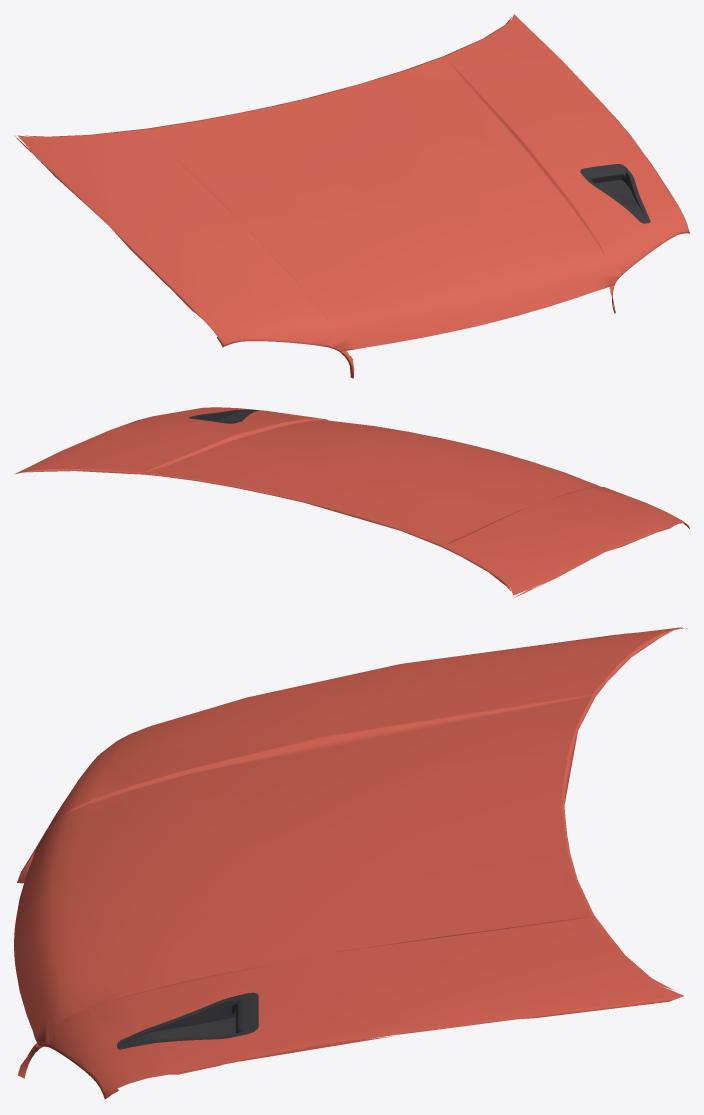
Rendered from wendtStrom_hood_trackBase.glb.
The picture shows the model from 3 angles, top to bottom: view 1: azimuth 30°, elevation 25°; view 2: azimuth 150°, elevation 25°; view 3: azimuth 270°, elevation 25°; orthographic projection. The views are drawn at different scales.
Visible parts, largest first — view 1: hood_trackBase; view 2: hood_trackBase; view 3: hood_trackBase.
Part boxes in pixels (bbox=[...]): hood_trackBase: bbox=[14, 14, 689, 378]; hood_trackBase: bbox=[14, 407, 689, 597]; hood_trackBase: bbox=[14, 627, 687, 1099].
Bounding box in the file's own units: 1.44 × 0.3213 × 1.11.
